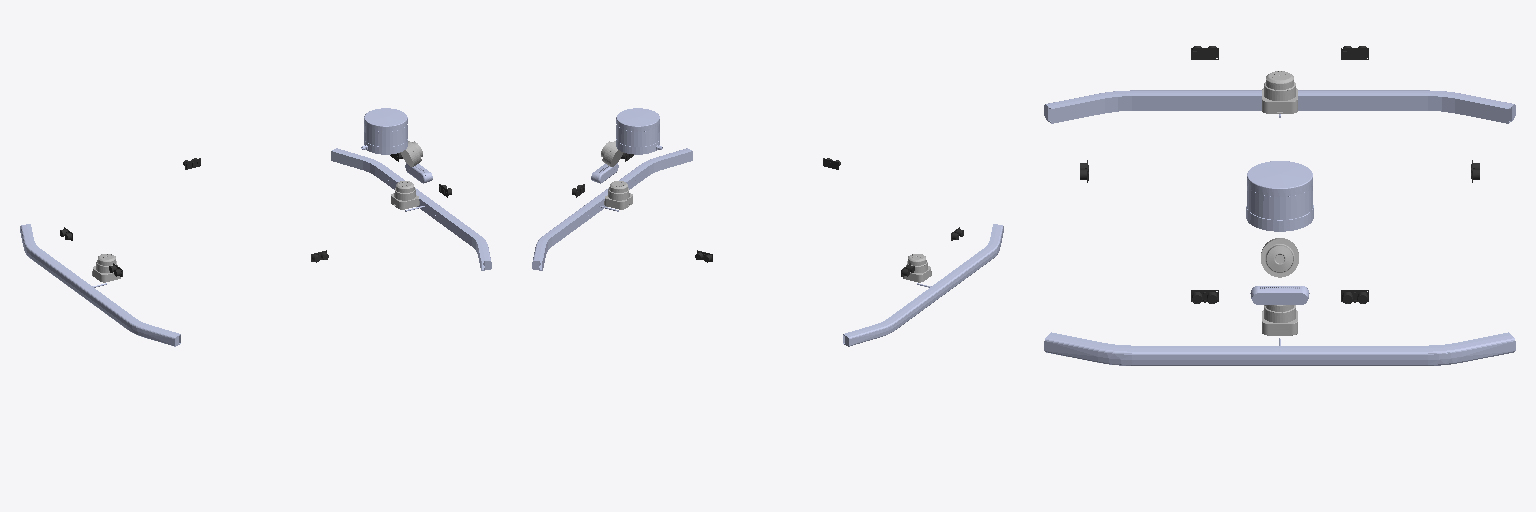
robot.urdf — Thunder:
<?xml version="1.0" ?>
<!-- =================================================================================== -->
<!-- |    This document was autogenerated by xacro from thunder_demo.xacro             | -->
<!-- |    EDITING THIS FILE BY HAND IS NOT RECOMMENDED                                 | -->
<!-- =================================================================================== -->
<robot name="Thunder">
  <gazebo>
    <plugin filename="libgazebo_ros_control.so" name="gazebo_ros_control">
      <robotNamespace>/mobile_base</robotNamespace>
      <robotSimType>gazebo_ros_control/DefaultRobotHWSim</robotSimType>
    </plugin>
  </gazebo>
  <gazebo reference="base_link">
    <material>Gazebo/Black</material>
  </gazebo>
  <link name="base_link"/>
  <link name="chassis_base_link">
    <visual>
      <origin rpy="0 0 0" xyz="0 0 0"/>
      <geometry>
        <mesh filename="package://description_pkg/urdf/meshes/base_link.dae"/>
      </geometry>
    </visual>
    <collision>
      <origin rpy="0 0 0" xyz="0 0 0.008"/>
      <geometry>
        <box size="0.925 0.38 0.21"/>
      </geometry>
    </collision>
    <collision>
      <origin rpy="0 0 0" xyz="0 0 0.035"/>
      <geometry>
        <box size="0.154166666667 0.627 0.07"/>
      </geometry>
    </collision>
  </link>
  <joint name="base_joint" type="fixed">
    <origin rpy="0 0 0" xyz="0 0 0.236"/>
    <parent link="base_link"/>
    <child link="chassis_base_link"/>
    <axis xyz="0 0 0"/>
  </joint>
  <link name="inertial_link">
    <inertial>
      <mass value="40"/>
      <origin xyz="0.0 0.0 0.0"/>
      <inertia ixx="2.288641" ixy="0" ixz="0" iyy="5.103976" iyz="0" izz="3.431465"/>
    </inertial>
  </link>
  <joint name="inertial_joint" type="fixed">
    <origin rpy="0 0 0" xyz="0 0 0"/>
    <parent link="chassis_base_link"/>
    <child link="inertial_link"/>
  </joint>
  <link name="front_right_wheel_link">
    <inertial>
      <mass value="3"/>
      <origin xyz="0 0 0"/>
      <inertia ixx="0.7171" ixy="0" ixz="0" iyy="0.1361" iyz="0" izz="0.7171"/>
    </inertial>
    <visual>
      <origin rpy="0 0 0" xyz="0 0 0"/>
      <geometry>
        <mesh filename="package://description_pkg/urdf/meshes/wheel_type1.dae"/>
      </geometry>
    </visual>
    <collision>
      <origin rpy="1.570795 0 0" xyz="0 0 0"/>
      <geometry>
        <cylinder length="0.11653" radius="0.16459"/>
      </geometry>
    </collision>
  </link>
  <joint name="wheel2_joint" type="continuous">
    <parent link="chassis_base_link"/>
    <child link="front_right_wheel_link"/>
    <origin rpy="3.14 0 0" xyz="0.249 -0.29153 -0.0702"/>
    <axis rpy="0 0 0" xyz="0 -1 0"/>
  </joint>
  <link name="front_left_wheel_link">
    <inertial>
      <mass value="3"/>
      <origin xyz="0 0 0"/>
      <inertia ixx="0.7171" ixy="0" ixz="0" iyy="0.1361" iyz="0" izz="0.7171"/>
    </inertial>
    <visual>
      <origin rpy="0 0 0" xyz="0 0 0"/>
      <geometry>
        <mesh filename="package://description_pkg/urdf/meshes/wheel_type2.dae"/>
      </geometry>
    </visual>
    <collision>
      <origin rpy="1.570795 0 0" xyz="0 0 0"/>
      <geometry>
        <cylinder length="0.11653" radius="0.16459"/>
      </geometry>
    </collision>
  </link>
  <joint name="wheel1_joint" type="continuous">
    <parent link="chassis_base_link"/>
    <child link="front_left_wheel_link"/>
    <origin rpy="0 0 0" xyz="0.249 0.29153 -0.0702"/>
    <axis rpy="0 0 0" xyz="0 -1 0"/>
  </joint>
  <link name="rear_left_wheel_link">
    <inertial>
      <mass value="3"/>
      <origin xyz="0 0 0"/>
      <inertia ixx="0.7171" ixy="0" ixz="0" iyy="0.1361" iyz="0" izz="0.7171"/>
    </inertial>
    <visual>
      <origin rpy="0 0 0" xyz="0 0 0"/>
      <geometry>
        <mesh filename="package://description_pkg/urdf/meshes/wheel_type1.dae"/>
      </geometry>
    </visual>
    <collision>
      <origin rpy="1.570795 0 0" xyz="0 0 0"/>
      <geometry>
        <cylinder length="0.11653" radius="0.16459"/>
      </geometry>
    </collision>
  </link>
  <joint name="wheel3_joint" type="continuous">
    <parent link="chassis_base_link"/>
    <child link="rear_left_wheel_link"/>
    <origin rpy="0 0 0" xyz="-0.249 0.29153 -0.0702"/>
    <axis rpy="0 0 0" xyz="0 -1 0"/>
  </joint>
  <link name="rear_right_wheel_link">
    <inertial>
      <mass value="3"/>
      <origin xyz="0 0 0"/>
      <inertia ixx="0.7171" ixy="0" ixz="0" iyy="0.1361" iyz="0" izz="0.7171"/>
    </inertial>
    <visual>
      <origin rpy="0 0 0" xyz="0 0 0"/>
      <geometry>
        <mesh filename="package://description_pkg/urdf/meshes/wheel_type2.dae"/>
      </geometry>
    </visual>
    <collision>
      <origin rpy="1.570795 0 0" xyz="0 0 0"/>
      <geometry>
        <cylinder length="0.11653" radius="0.16459"/>
      </geometry>
    </collision>
  </link>
  <joint name="wheel4_joint" type="continuous">
    <parent link="chassis_base_link"/>
    <child link="rear_right_wheel_link"/>
    <origin rpy="3.14 0 0" xyz="-0.249 -0.29153 -0.0702"/>
    <axis rpy="0 0 0" xyz="0 -1 0"/>
  </joint>
  <transmission name="front_right_wheel_trans" type="SimpleTransmission">
    <type>transmission_interface/SimpleTransmission</type>
    <actuator name="front_right_wheel_motor">
      <mechanicalReduction>1</mechanicalReduction>
    </actuator>
    <joint name="wheel2_joint">
      <hardwareInterface>hardware_interface/VelocityJointInterface</hardwareInterface>
    </joint>
  </transmission>
  <transmission name="front_left_wheel_trans" type="SimpleTransmission">
    <type>transmission_interface/SimpleTransmission</type>
    <actuator name="front_left_wheel_motor">
      <mechanicalReduction>1</mechanicalReduction>
    </actuator>
    <joint name="wheel1_joint">
      <hardwareInterface>hardware_interface/VelocityJointInterface</hardwareInterface>
    </joint>
  </transmission>
  <transmission name="rear_left_wheel_trans" type="SimpleTransmission">
    <type>transmission_interface/SimpleTransmission</type>
    <actuator name="rear_left_wheel_motor">
      <mechanicalReduction>1</mechanicalReduction>
    </actuator>
    <joint name="wheel3_joint">
      <hardwareInterface>hardware_interface/VelocityJointInterface</hardwareInterface>
    </joint>
  </transmission>
  <transmission name="rear_right_wheel_trans" type="SimpleTransmission">
    <type>transmission_interface/SimpleTransmission</type>
    <actuator name="rear_right_wheel_motor">
      <mechanicalReduction>1</mechanicalReduction>
    </actuator>
    <joint name="wheel4_joint">
      <hardwareInterface>hardware_interface/VelocityJointInterface</hardwareInterface>
    </joint>
  </transmission>
  <!-- kp spring constant, kd damping constant -->
  <gazebo>
    <mu1 value="1.0"/>
    <mu2 value="0.9"/>
    <kp value="10000000.0"/>
    <kd value="1.0"/>
    <fdir1 value="1 0 0"/>
    <minDepth value="0.001"/>
    <maxContacts value="64"/>
  </gazebo>
  <link name="Navi_L_V1_link">
    <inertial>
      <origin rpy="0 0 0" xyz="0.019708 0.0011205 0.11592"/>
      <mass value="16.373"/>
      <inertia ixx="0.16697" ixy="0.0025757" ixz="-0.034051" iyy="0.46927" iyz="0.00011966" izz="0.51322"/>
    </inertial>
    <visual>
      <origin rpy="0 0 0" xyz="0 0 0"/>
      <geometry>
        <mesh filename="package://description_pkg/urdf/meshes/Navi_L_V1_link.STL"/>
      </geometry>
      <material name="">
        <color rgba="0.79216 0.81961 0.93333 1"/>
      </material>
    </visual>
    <collision>
      <origin rpy="0 0 0" xyz="0 0 0"/>
      <geometry>
        <mesh filename="package://description_pkg/urdf/meshes/Navi_L_V1_link.STL"/>
      </geometry>
    </collision>
  </link>
  <joint name="Navi_L_V1_joint" type="fixed">
    <origin rpy="0 0 0" xyz="0 0 0.34596"/>
    <parent link="base_link"/>
    <child link="Navi_L_V1_link"/>
    <axis xyz="0 0 0"/>
  </joint>
  <link name="4Gcamera_link">
    <inertial>
      <origin rpy="0 0 0" xyz="0.015392 -7.3061E-06 -3.9903E-05"/>
      <mass value="0.079186"/>
      <inertia ixx="0" ixy="0" ixz="0" iyy="0" iyz="0" izz="0"/>
    </inertial>
    <visual>
      <origin rpy="0 0 0" xyz="0 0 0"/>
      <geometry>
        <mesh filename="package://description_pkg/urdf/meshes/4Gcamera_link.STL"/>
      </geometry>
      <material name="">
        <color rgba="0.75294 0.75294 0.75294 1"/>
      </material>
    </visual>
    <collision>
      <origin rpy="0 0 0" xyz="0 0 0"/>
      <geometry>
        <mesh filename="package://description_pkg/urdf/meshes/4Gcamera_link.STL"/>
      </geometry>
    </collision>
  </link>
  <joint name="4Gcamera_joint" type="fixed">
    <origin rpy="-2.4114E-16 -0.34908 9.4518E-16" xyz="0.40319 0 0.16051"/>
    <parent link="Navi_L_V1_link"/>
    <child link="4Gcamera_link"/>
    <axis xyz="0 0 0"/>
  </joint>
  <link name="front_laser_link">
    <inertial>
      <origin rpy="0 0 0" xyz="-0.00019965 -2.9531E-07 0.032148"/>
      <mass value="0.009492"/>
      <inertia ixx="0" ixy="0" ixz="0" iyy="0" iyz="0" izz="0"/>
    </inertial>
    <visual>
      <origin rpy="0 0 0" xyz="0 0 0"/>
      <geometry>
        <mesh filename="package://description_pkg/urdf/meshes/rplidar_s1.STL"/>
      </geometry>
      <material name="">
        <color rgba="0.75294 0.75294 0.75294 1"/>
      </material>
    </visual>
    <collision>
      <origin rpy="0 0 0" xyz="0 0 0"/>
      <geometry>
        <mesh filename="package://description_pkg/urdf/meshes/rplidar_s1.STL"/>
      </geometry>
    </collision>
  </link>
  <joint name="front_laser_joint" type="fixed">
    <origin rpy="0 0 0" xyz="0.4 0 0.0398"/>
    <parent link="Navi_L_V1_link"/>
    <child link="front_laser_link"/>
    <axis xyz="0 0 0"/>
  </joint>
  <link name="back_laser_link">
    <inertial>
      <origin rpy="0 0 0" xyz="-0.00019965 -2.9531E-07 0.032148"/>
      <mass value="0.009492"/>
      <inertia ixx="0" ixy="0" ixz="0" iyy="0" iyz="0" izz="0"/>
    </inertial>
    <visual>
      <origin rpy="0 0 0" xyz="0 0 0"/>
      <geometry>
        <mesh filename="package://description_pkg/urdf/meshes/rplidar_s1.STL"/>
      </geometry>
      <material name="">
        <color rgba="0.75294 0.75294 0.75294 1"/>
      </material>
    </visual>
    <collision>
      <origin rpy="0 0 0" xyz="0 0 0"/>
      <geometry>
        <mesh filename="package://description_pkg/urdf/meshes/rplidar_s1.STL"/>
      </geometry>
    </collision>
  </link>
  <joint name="back_laser_joint" type="fixed">
    <origin rpy="0 0 -3.1416" xyz="-0.4 0 0.0398"/>
    <parent link="Navi_L_V1_link"/>
    <child link="back_laser_link"/>
    <axis xyz="0 0 0"/>
  </joint>
  <link name="1_ultrasonic_link">
    <inertial>
      <origin rpy="0 0 0" xyz="0.0056202 0 0"/>
      <mass value="0.0063918"/>
      <inertia ixx="0" ixy="0" ixz="0" iyy="0" iyz="0" izz="0"/>
    </inertial>
    <visual>
      <origin rpy="0 0 0" xyz="0 0 0"/>
      <geometry>
        <mesh filename="package://description_pkg/urdf/meshes/ult_ks103.STL"/>
      </geometry>
      <material name="">
        <color rgba="0.25098 0.25098 0.25098 1"/>
      </material>
    </visual>
    <collision>
      <origin rpy="0 0 0" xyz="0 0 0"/>
      <geometry>
        <mesh filename="package://description_pkg/urdf/meshes/ult_ks103.STL"/>
      </geometry>
    </collision>
  </link>
  <joint name="1_ultrasonic_joint" type="fixed">
    <origin rpy="0 0 0" xyz="0.4364 0.1145 0.11062"/>
    <parent link="Navi_L_V1_link"/>
    <child link="1_ultrasonic_link"/>
    <axis xyz="0 0 0"/>
  </joint>
  <link name="2_ultrasonic_link">
    <inertial>
      <origin rpy="0 0 0" xyz="0.0056202 0 0"/>
      <mass value="0.0063918"/>
      <inertia ixx="0" ixy="0" ixz="0" iyy="0" iyz="0" izz="0"/>
    </inertial>
    <visual>
      <origin rpy="0 0 0" xyz="0 0 0"/>
      <geometry>
        <mesh filename="package://description_pkg/urdf/meshes/ult_ks103.STL"/>
      </geometry>
      <material name="">
        <color rgba="0.25098 0.25098 0.25098 1"/>
      </material>
    </visual>
    <collision>
      <origin rpy="0 0 0" xyz="0 0 0"/>
      <geometry>
        <mesh filename="package://description_pkg/urdf/meshes/ult_ks103.STL"/>
      </geometry>
    </collision>
  </link>
  <joint name="2_ultrasonic_joint" type="fixed">
    <origin rpy="0 0 1.5708" xyz="0 0.29195 0.1164"/>
    <parent link="Navi_L_V1_link"/>
    <child link="2_ultrasonic_link"/>
    <axis xyz="0 0 0"/>
  </joint>
  <link name="3_ultrasonic_link">
    <inertial>
      <origin rpy="0 0 0" xyz="0.0056202 0 0"/>
      <mass value="0.0063918"/>
      <inertia ixx="0" ixy="0" ixz="0" iyy="0" iyz="0" izz="0"/>
    </inertial>
    <visual>
      <origin rpy="0 0 0" xyz="0 0 0"/>
      <geometry>
        <mesh filename="package://description_pkg/urdf/meshes/ult_ks103.STL"/>
      </geometry>
      <material name="">
        <color rgba="0.25098 0.25098 0.25098 1"/>
      </material>
    </visual>
    <collision>
      <origin rpy="0 0 0" xyz="0 0 0"/>
      <geometry>
        <mesh filename="package://description_pkg/urdf/meshes/ult_ks103.STL"/>
      </geometry>
    </collision>
  </link>
  <joint name="3_ultrasonic_joint" type="fixed">
    <origin rpy="0 0 -3.1416" xyz="-0.4364 0.1145 0.11062"/>
    <parent link="Navi_L_V1_link"/>
    <child link="3_ultrasonic_link"/>
    <axis xyz="0 0 0"/>
  </joint>
  <link name="4_ultrasonic_link">
    <inertial>
      <origin rpy="0 0 0" xyz="0.0056202 0 0"/>
      <mass value="0.0063918"/>
      <inertia ixx="0" ixy="0" ixz="0" iyy="0" iyz="0" izz="0"/>
    </inertial>
    <visual>
      <origin rpy="0 0 0" xyz="0 0 0"/>
      <geometry>
        <mesh filename="package://description_pkg/urdf/meshes/ult_ks103.STL"/>
      </geometry>
      <material name="">
        <color rgba="0.25098 0.25098 0.25098 1"/>
      </material>
    </visual>
    <collision>
      <origin rpy="0 0 0" xyz="0 0 0"/>
      <geometry>
        <mesh filename="package://description_pkg/urdf/meshes/ult_ks103.STL"/>
      </geometry>
    </collision>
  </link>
  <joint name="4_ultrasonic_joint" type="fixed">
    <origin rpy="0 0 3.1416" xyz="-0.4364 -0.1145 0.11062"/>
    <parent link="Navi_L_V1_link"/>
    <child link="4_ultrasonic_link"/>
    <axis xyz="0 0 0"/>
  </joint>
  <link name="5_ultrasonic_link">
    <inertial>
      <origin rpy="0 0 0" xyz="0.0056202 0 0"/>
      <mass value="0.0063918"/>
      <inertia ixx="0" ixy="0" ixz="0" iyy="0" iyz="0" izz="0"/>
    </inertial>
    <visual>
      <origin rpy="0 0 0" xyz="0 0 0"/>
      <geometry>
        <mesh filename="package://description_pkg/urdf/meshes/ult_ks103.STL"/>
      </geometry>
      <material name="">
        <color rgba="0.25098 0.25098 0.25098 1"/>
      </material>
    </visual>
    <collision>
      <origin rpy="0 0 0" xyz="0 0 0"/>
      <geometry>
        <mesh filename="package://description_pkg/urdf/meshes/ult_ks103.STL"/>
      </geometry>
    </collision>
  </link>
  <joint name="5_ultrasonic_joint" type="fixed">
    <origin rpy="0 0 -1.5708" xyz="0 -0.29195 0.1164"/>
    <parent link="Navi_L_V1_link"/>
    <child link="5_ultrasonic_link"/>
    <axis xyz="0 0 0"/>
  </joint>
  <link name="6_ultrasonic_link">
    <inertial>
      <origin rpy="0 0 0" xyz="0.0056202 0 0"/>
      <mass value="0.0063918"/>
      <inertia ixx="0" ixy="0" ixz="0" iyy="0" iyz="0" izz="0"/>
    </inertial>
    <visual>
      <origin rpy="0 0 0" xyz="0 0 0"/>
      <geometry>
        <mesh filename="package://description_pkg/urdf/meshes/ult_ks103.STL"/>
      </geometry>
      <material name="">
        <color rgba="0.25098 0.25098 0.25098 1"/>
      </material>
    </visual>
    <collision>
      <origin rpy="0 0 0" xyz="0 0 0"/>
      <geometry>
        <mesh filename="package://description_pkg/urdf/meshes/ult_ks103.STL"/>
      </geometry>
    </collision>
  </link>
  <joint name="6_ultrasonic_joint" type="fixed">
    <origin rpy="0 0 0" xyz="0.4364 -0.1145 0.11062"/>
    <parent link="Navi_L_V1_link"/>
    <child link="6_ultrasonic_link"/>
    <axis xyz="0 0 0"/>
  </joint>
  <link name="front_bumper_link">
    <inertial>
      <origin rpy="0 0 0" xyz="0.0018383 -1.6277E-16 -2.7756E-17"/>
      <mass value="0.39"/>
      <inertia ixx="7.8534E-33" ixy="2.8025E-19" ixz="4.2661E-20" iyy="1.0748E-05" iyz="-1.1662E-33" izz="1.0748E-05"/>
    </inertial>
    <visual>
      <origin rpy="0 0 0" xyz="0 0 0"/>
      <geometry>
        <mesh filename="package://description_pkg/urdf/meshes/bumper_72.STL"/>
      </geometry>
      <material name="">
        <color rgba="0.79216 0.81961 0.93333 1"/>
      </material>
    </visual>
    <collision>
      <origin rpy="0 0 0" xyz="0 0 0"/>
      <geometry>
        <mesh filename="package://description_pkg/urdf/meshes/bumper_72.STL"/>
      </geometry>
    </collision>
  </link>
  <joint name="front_bumper_joint" type="fixed">
    <origin rpy="0 0 0" xyz="0.455 0 0.021"/>
    <parent link="Navi_L_V1_link"/>
    <child link="front_bumper_link"/>
    <axis xyz="0 0 0"/>
  </joint>
  <link name="back_bumper_link">
    <inertial>
      <origin rpy="0 0 0" xyz="0.0018383 -1.6277E-16 -2.7756E-17"/>
      <mass value="0.39"/>
      <inertia ixx="7.8534E-33" ixy="2.8025E-19" ixz="4.2661E-20" iyy="1.0748E-05" iyz="-1.1662E-33" izz="1.0748E-05"/>
    </inertial>
    <visual>
      <origin rpy="0 0 0" xyz="0 0 0"/>
      <geometry>
        <mesh filename="package://description_pkg/urdf/meshes/bumper_72.STL"/>
      </geometry>
      <material name="">
        <color rgba="0.79216 0.81961 0.93333 1"/>
      </material>
    </visual>
    <collision>
      <origin rpy="0 0 0" xyz="0 0 0"/>
      <geometry>
        <mesh filename="package://description_pkg/urdf/meshes/bumper_72.STL"/>
      </geometry>
    </collision>
  </link>
  <joint name="back_bumper_joint" type="fixed">
    <origin rpy="0 0 3.1415926" xyz="-0.455 0 0.021"/>
    <parent link="Navi_L_V1_link"/>
    <child link="back_bumper_link"/>
    <axis xyz="0 0 0"/>
  </joint>
  <link name="camera_link">
    <inertial>
      <origin rpy="0 0 0" xyz="-0.013048 0.0002462 0"/>
      <mass value="0.044752"/>
      <inertia ixx="0" ixy="0" ixz="0" iyy="0" iyz="0" izz="0"/>
    </inertial>
    <visual>
      <origin rpy="0 0 0" xyz="0 0 0"/>
      <geometry>
        <mesh filename="package://description_pkg/urdf/meshes/realsense_d435.STL"/>
      </geometry>
      <material name="">
        <color rgba="0.79216 0.81961 0.93333 1"/>
      </material>
    </visual>
    <collision>
      <origin rpy="0 0 0" xyz="0 0 0"/>
      <geometry>
        <mesh filename="package://description_pkg/urdf/meshes/realsense_d435.STL"/>
      </geometry>
    </collision>
  </link>
  <joint name="camera_base_joint" type="fixed">
    <origin rpy="0 0 0" xyz="0.45 0 0.11148"/>
    <parent link="Navi_L_V1_link"/>
    <child link="camera_link"/>
    <axis xyz="0 0 0"/>
  </joint>
  <link name="3d_laser_link">
    <inertial>
      <origin rpy="0 0 0" xyz="-5.2047E-09 -1.7921E-10 0.037866"/>
      <mass value="8423.7"/>
      <inertia ixx="3.1592E-06" ixy="6.0256E-12" ixz="-1.421E-06" iyy="5.7747E-06" iyz="-2.9734E-09" izz="2.6155E-06"/>
    </inertial>
    <visual>
      <origin rpy="0 0 0" xyz="0 0 0"/>
      <geometry>
        <mesh filename="package://description_pkg/urdf/meshes/vlp_16.STL"/>
      </geometry>
      <material name="">
        <color rgba="0.79216 0.81961 0.93333 1"/>
      </material>
    </visual>
    <collision>
      <origin rpy="0 0 0" xyz="0 0 0"/>
      <geometry>
        <mesh filename="package://description_pkg/urdf/meshes/vlp_16.STL"/>
      </geometry>
    </collision>
  </link>
  <joint name="3d_laser_joint" type="fixed">
    <origin rpy="0 0 0" xyz="0.34852 0 0.2016"/>
    <parent link="Navi_L_V1_link"/>
    <child link="3d_laser_link"/>
    <axis xyz="0 0 0"/>
  </joint>

 <link name="base_footprint">
  <visual>
    <origin xyz="0 0 0" rpy="0 0 0" />
    <geometry>
      <box size="0.001 0.001 0.001" />
    </geometry>
  </visual>
  </link>
  
  <joint name="base_footprint_joint" type="fixed">
    <origin xyz="0 0 0.033" rpy="0 0 0" />        
    <parent link="base_footprint"/>
    <child link="base_link" />
  </joint> 
</robot>

--- What the picture shows (computed from the rendered views, not written in the file) ---
3 views of the same robot in one strip: view 1: azimuth 30°, elevation 25°; view 2: azimuth 150°, elevation 25°; view 3: azimuth 270°, elevation 25° (orthographic).
Robot: Thunder — 22 links, 21 joints (4 continuous, 17 fixed); root link base_footprint; default pose: every joint at zero.
Visible links, largest first — view 1: back_bumper_link, front_bumper_link, 3d_laser_link, front_laser_link; view 2: back_bumper_link, front_bumper_link, 3d_laser_link, front_laser_link; view 3: front_bumper_link, back_bumper_link, 3d_laser_link, back_laser_link, 4Gcamera_link, front_laser_link, camera_link.
Boxes of the visible links, <box> form: back_bumper_link: <box>20,224,180,346</box>; front_bumper_link: <box>331,148,491,270</box>; 3d_laser_link: <box>361,108,407,154</box>; front_laser_link: <box>391,181,419,209</box>; back_bumper_link: <box>843,224,1003,346</box>; front_bumper_link: <box>532,148,692,270</box>; 3d_laser_link: <box>616,108,662,154</box>; front_laser_link: <box>604,181,632,209</box>; front_bumper_link: <box>1044,332,1515,365</box>; back_bumper_link: <box>1044,90,1515,123</box>; 3d_laser_link: <box>1246,161,1313,231</box>; back_laser_link: <box>1262,71,1297,113</box>; 4Gcamera_link: <box>1261,238,1298,277</box>; front_laser_link: <box>1262,305,1297,335</box>; camera_link: <box>1250,286,1309,304</box>.
Bounding box of the posed robot: 0.95 × 0.7179 × 0.6538 m (x, y, z).
13 mesh visuals loaded from 10 distinct referenced files (6 binary STL); not drawn: 6 (reference not matched to a file when rendering).